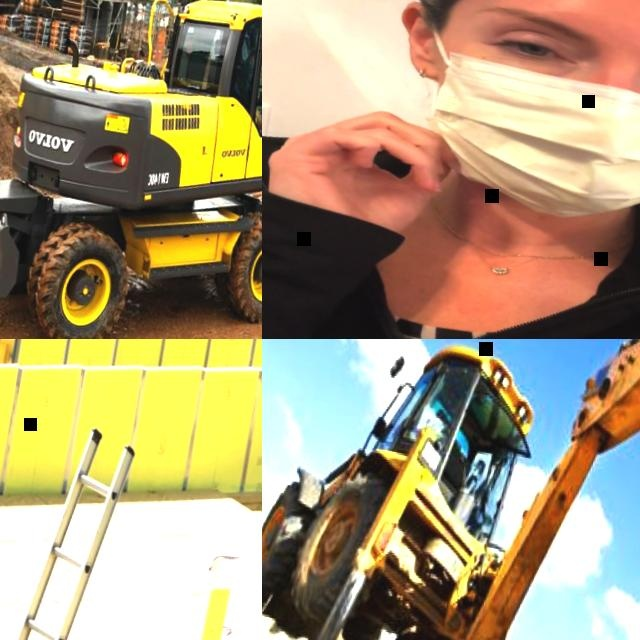Mask: (414, 2, 640, 232)
NO-Safety Vest: (262, 156, 640, 339)
Person: (262, 0, 640, 339), (228, 43, 262, 130)
Safety Vest: (234, 57, 256, 93)
machinery: (262, 339, 640, 640), (0, 0, 262, 339)
